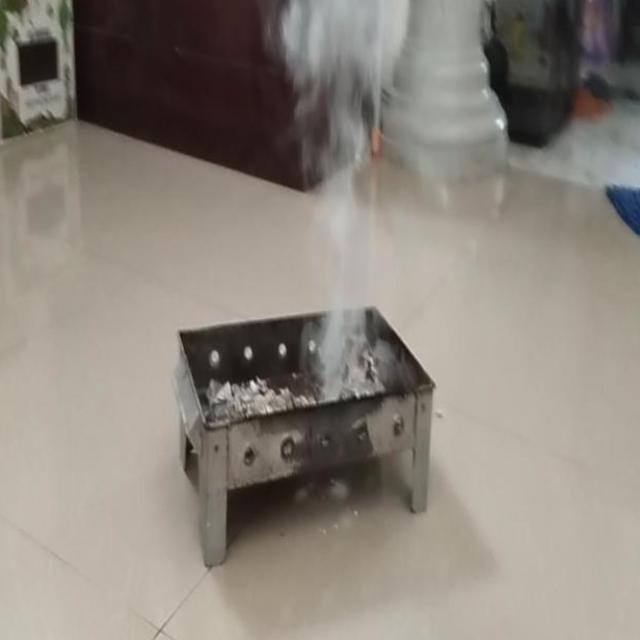fire: (306, 106, 374, 376), (276, 0, 396, 107)
